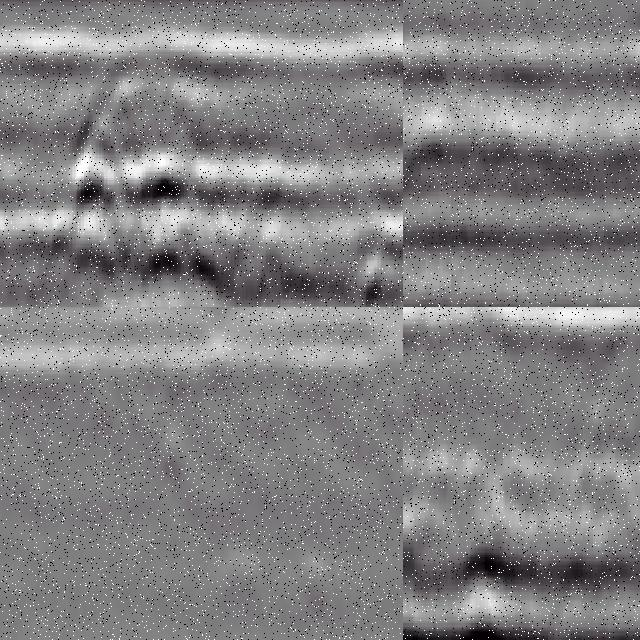loose: (57, 112, 272, 295), (404, 1, 484, 128)
